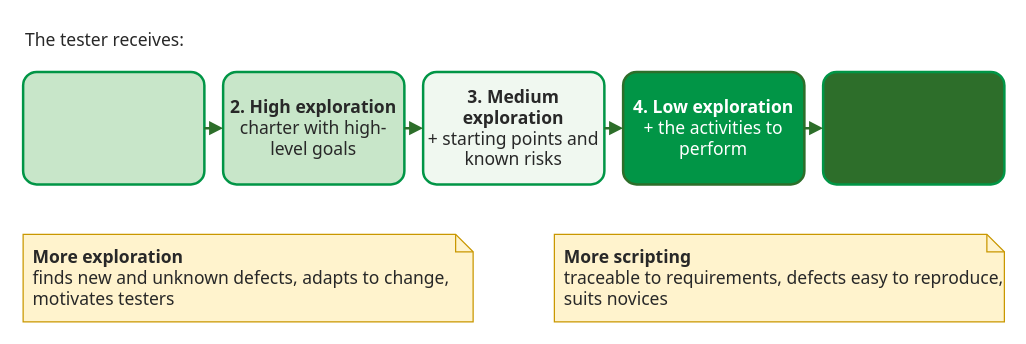
Some shapes in this 1026 by 344 pixel diagram are drawn without their labels. The box of each missing label's shape, as (x1, y1, x2, y2) in pixels:
1. Freestyle only the test object: (21, 70, 205, 185)
5. Fully scripted + test steps and test data: (821, 70, 1005, 185)
